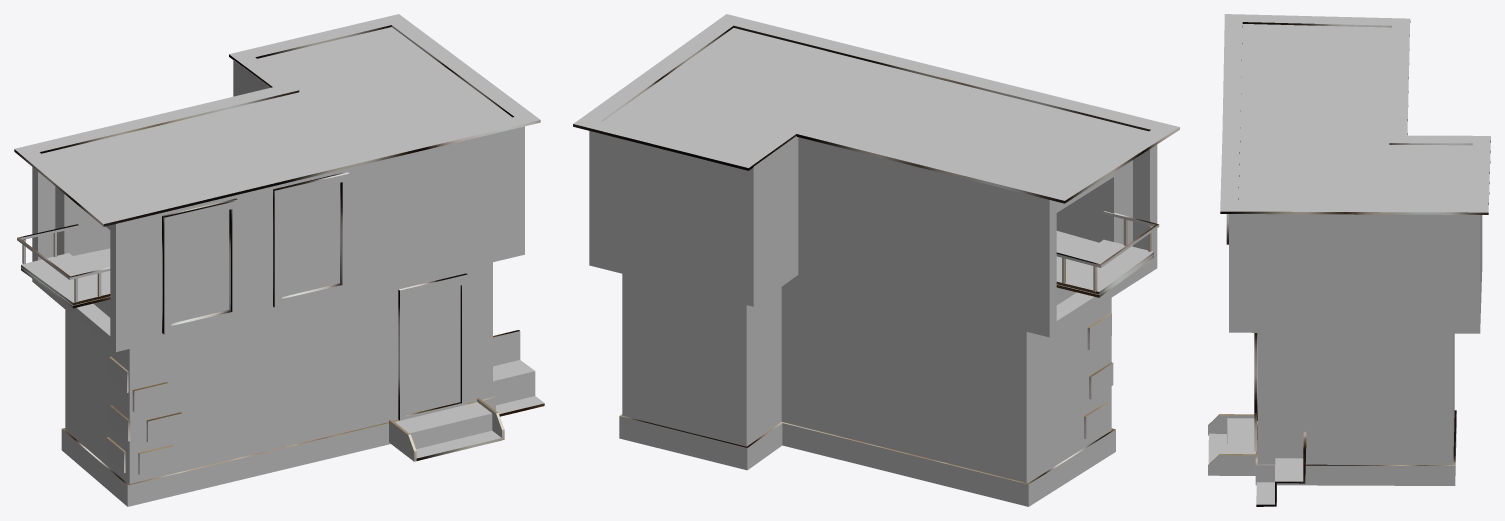
Rendered from HouseBalcony2.fbx.
3 views of the same model, side by side, from view 1: azimuth 30°, elevation 25°; view 2: azimuth 150°, elevation 25°; view 3: azimuth 270°, elevation 25° (orthographic). The views are drawn at different scales.
Visible parts, largest first — view 1: Cube.009; view 2: Cube.009; view 3: Cube.009.
Part boxes in pixels (box(x1,y1,x2,y2)): Cube.009: box(14, 14, 544, 506); Cube.009: box(573, 14, 1179, 506); Cube.009: box(1208, 14, 1490, 506).
Bounding box in the file's own units: 3045 × 1914 × 1720.
